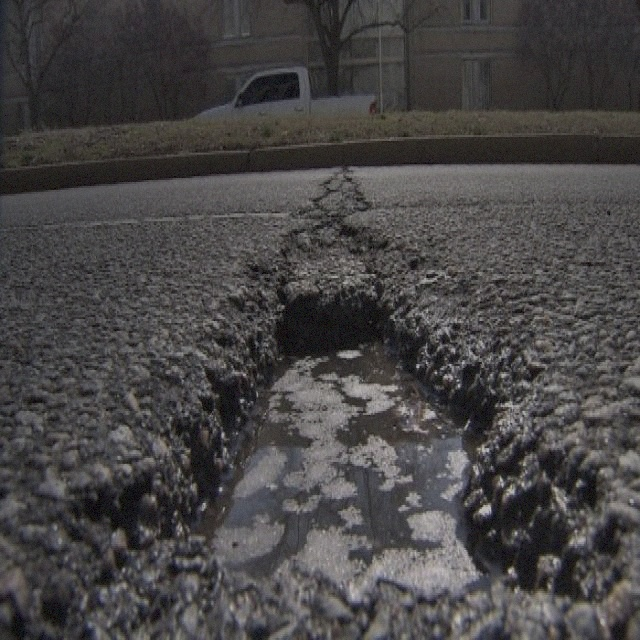pothole: (121, 260, 590, 611)
